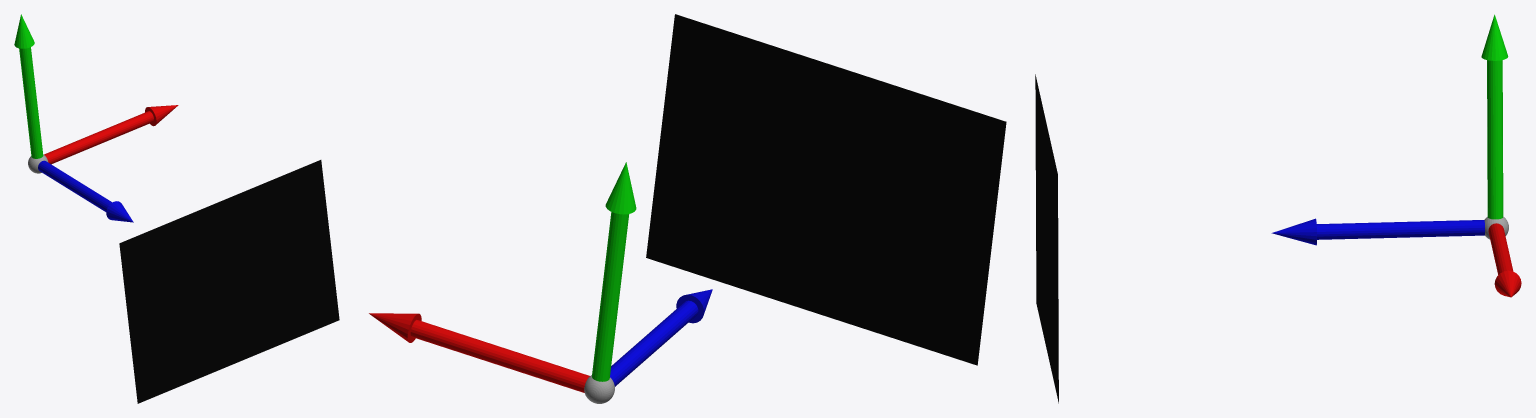
The picture shows the model from 3 angles, left to right: view 1: azimuth 30°, elevation 25°; view 2: azimuth 150°, elevation 25°; view 3: azimuth 270°, elevation 25°; orthographic projection. The views are drawn at different scales.
Size of the model in its own units: 0.2031 by 0.2003 by 0.2704.
